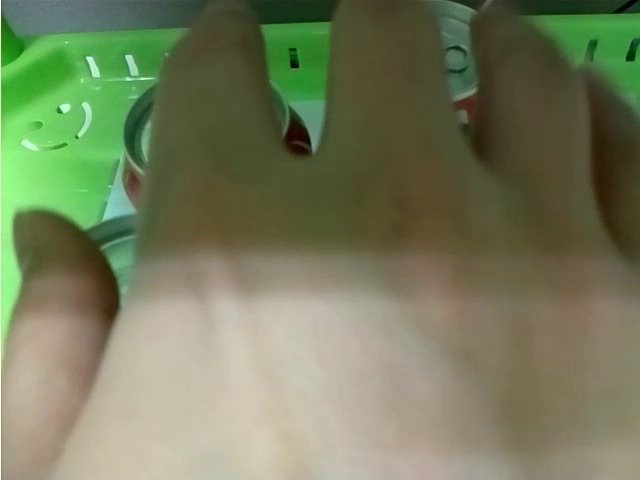cocacola: (107, 68, 312, 198), (431, 3, 490, 118)
hand: (6, 4, 640, 480)
